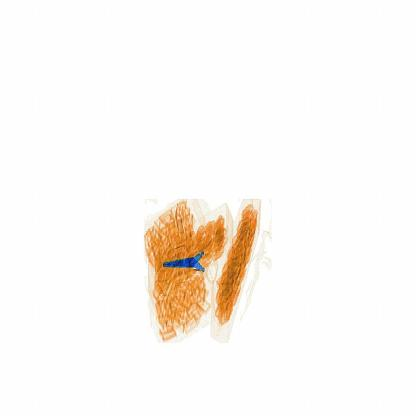gun: (160, 238, 232, 287)
